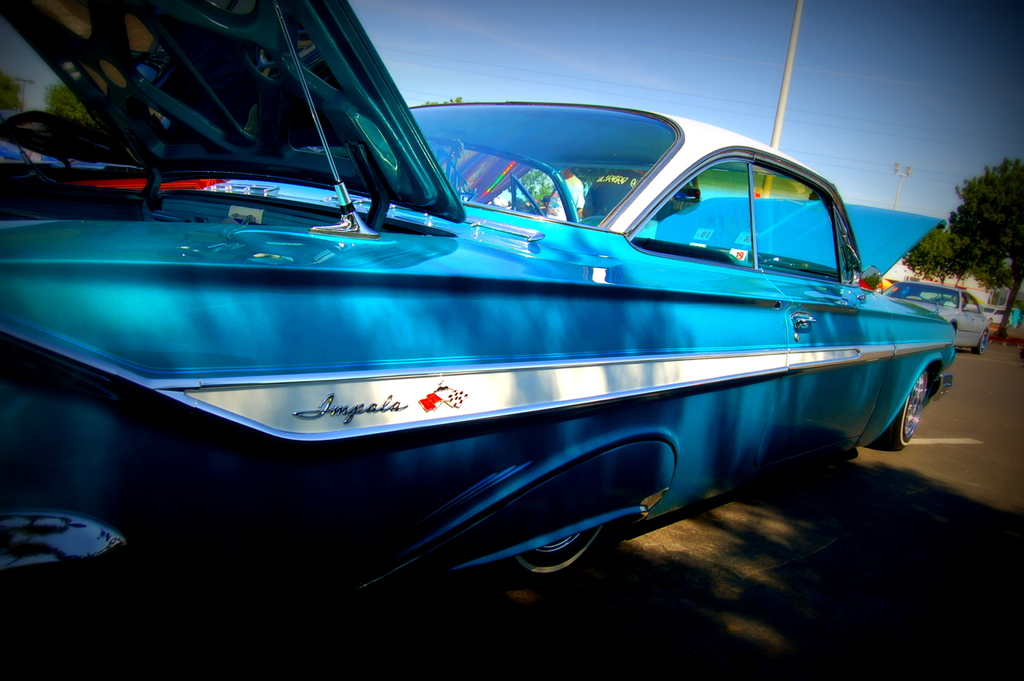Car: (29, 44, 922, 588), (876, 280, 990, 350), (0, 170, 224, 195)
